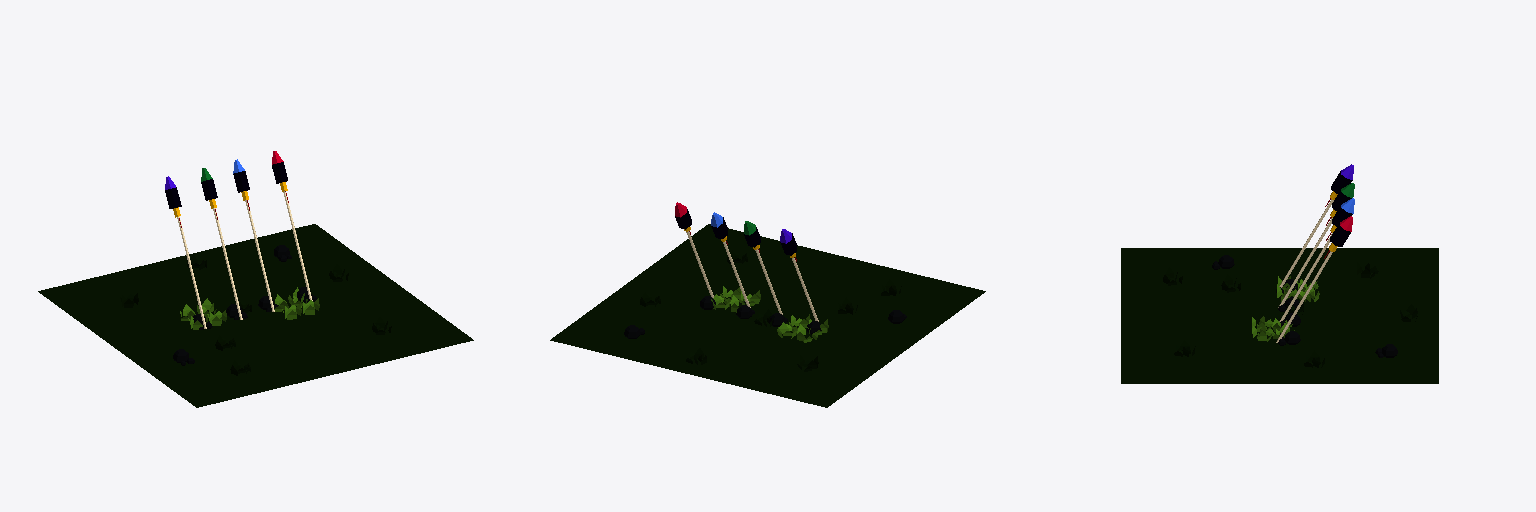
Rendered from Kwitis-Lv1.obj.
3 views of the same model, side by side, from view 1: azimuth 30°, elevation 25°; view 2: azimuth 150°, elevation 25°; view 3: azimuth 270°, elevation 25° (orthographic).
Visible parts, largest first — view 1: Plane, grass-large.002, grass-large; view 2: Plane, grass-large, grass-large.002; view 3: Plane, grass-large.002.
Part boxes in pixels (x1,y1,x2,y2): Plane: (38, 224, 473, 407); grass-large.002: (274, 287, 319, 319); grass-large: (180, 298, 226, 329); Plane: (550, 224, 985, 407); grass-large: (777, 314, 828, 342); grass-large.002: (711, 286, 760, 312); Plane: (1121, 248, 1438, 383); grass-large.002: (1252, 316, 1294, 341).
Size of the model in its own units: 7.96 by 3.62 by 7.92.